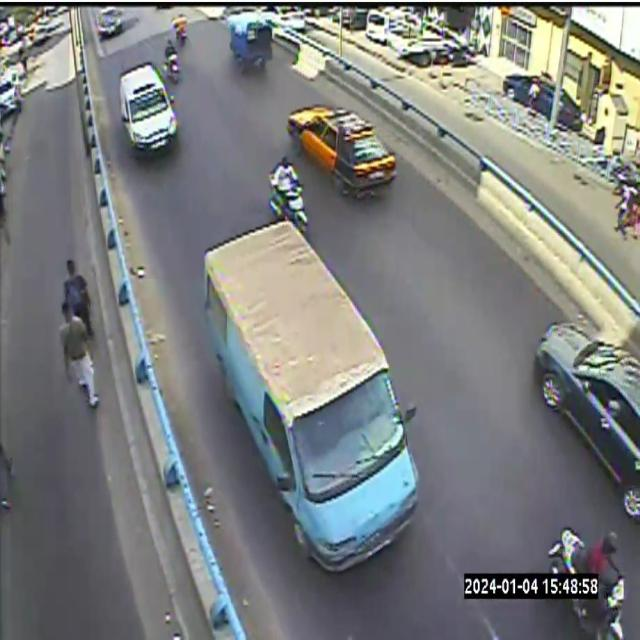car: (205, 221, 417, 570), (535, 322, 639, 521), (287, 103, 396, 196), (120, 61, 177, 153)
